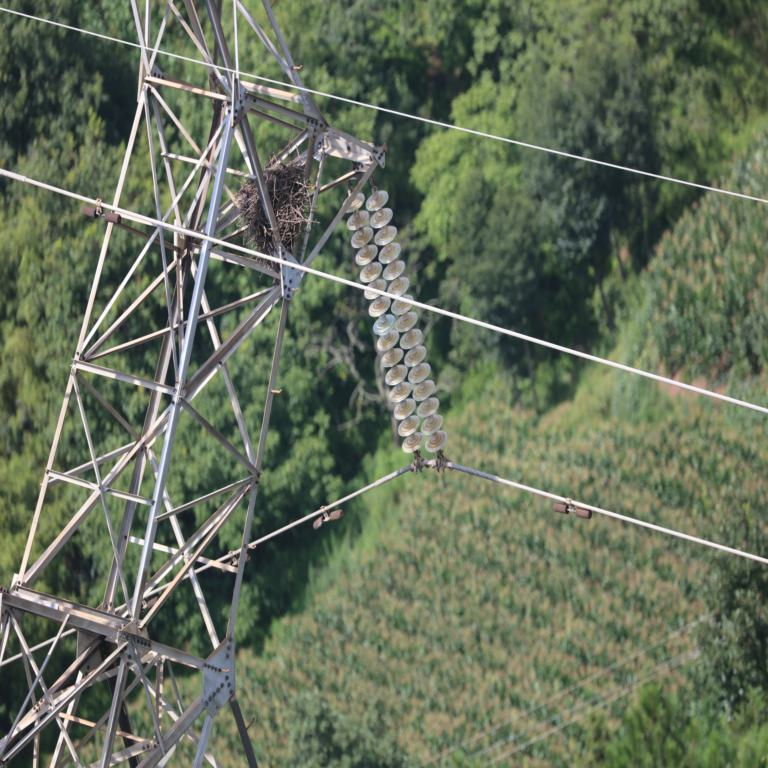nest: (239, 167, 302, 255)
